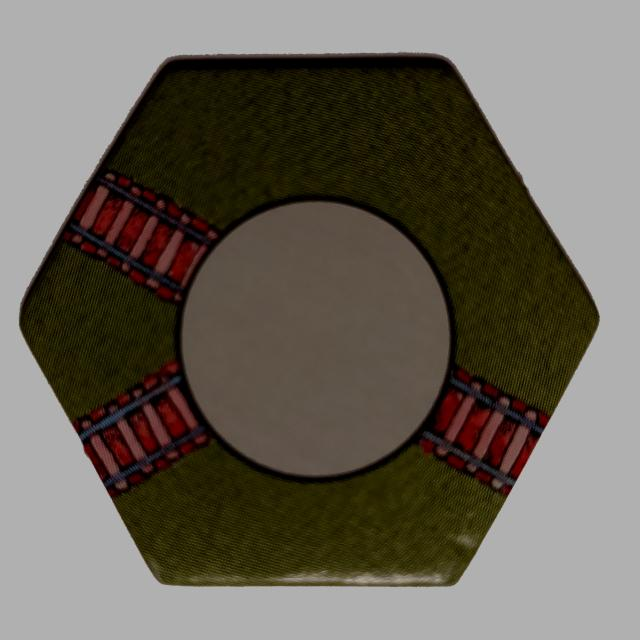14_3: (21, 54, 602, 586)
